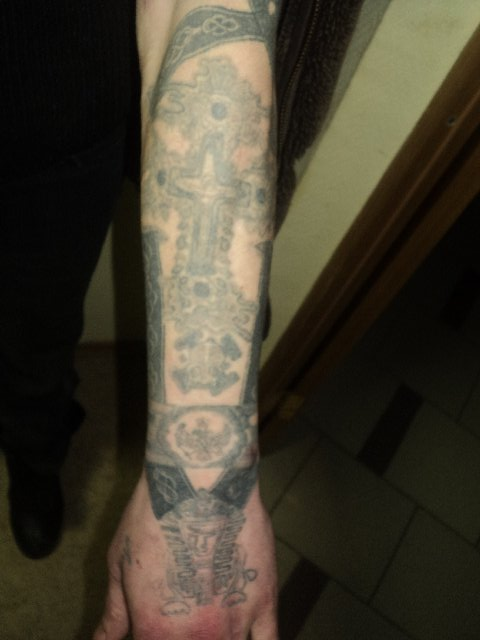tatu6_drakon: (168, 128, 250, 281)
